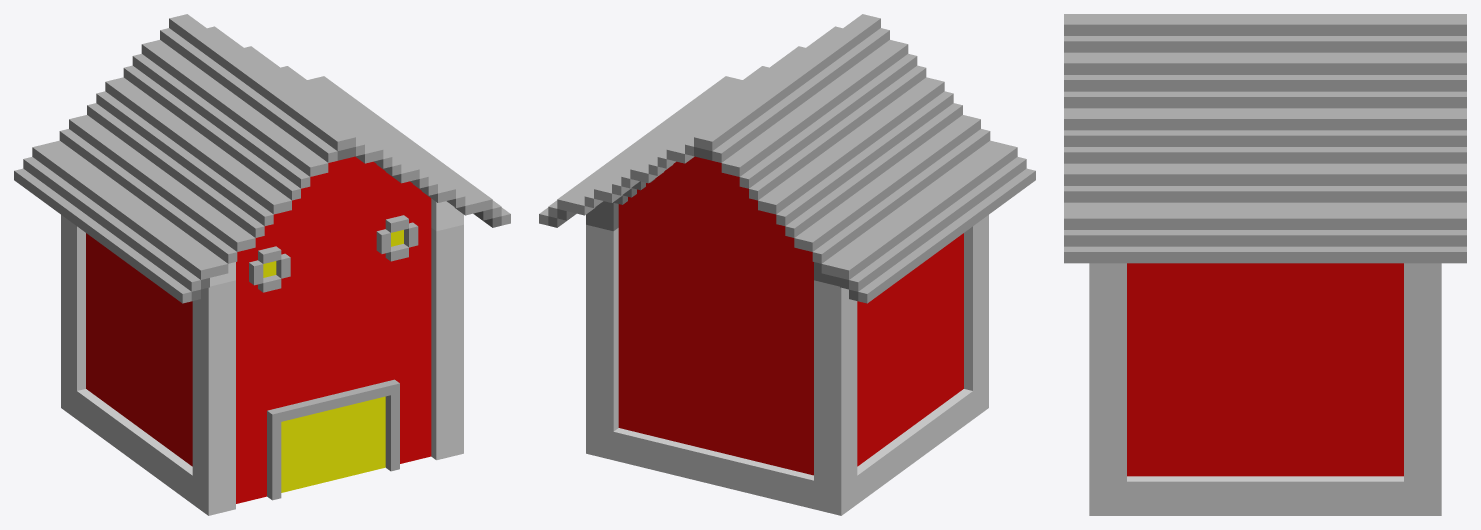
File: stable.fbx
3 views of the same model, side by side, from view 1: azimuth 30°, elevation 25°; view 2: azimuth 150°, elevation 25°; view 3: azimuth 270°, elevation 25° (orthographic). The views are drawn at different scales.
Visible parts, largest first — view 1: ObjObject.009; view 2: ObjObject.009; view 3: ObjObject.009.
Part boxes in pixels (x1,y1,x2,y2): ObjObject.009: (14,14,510,515); ObjObject.009: (539,14,1035,515); ObjObject.009: (1064,14,1466,515).
Bounding box in the file's own units: 360 × 370 × 320.
Materials: 1 (1 with a texture image).
